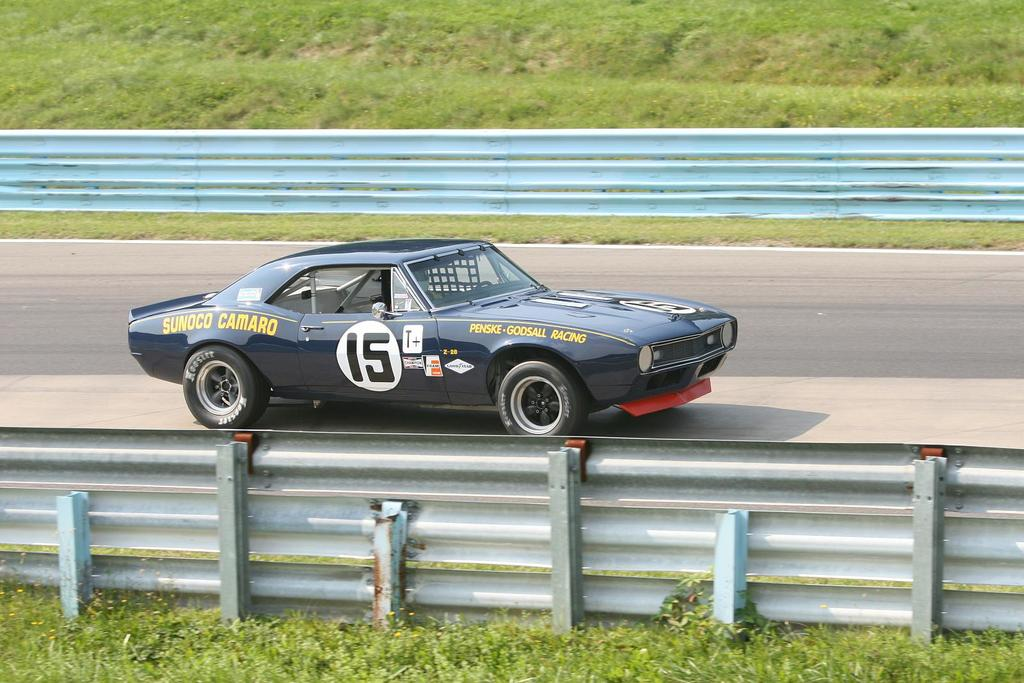car: (110, 221, 760, 452)
